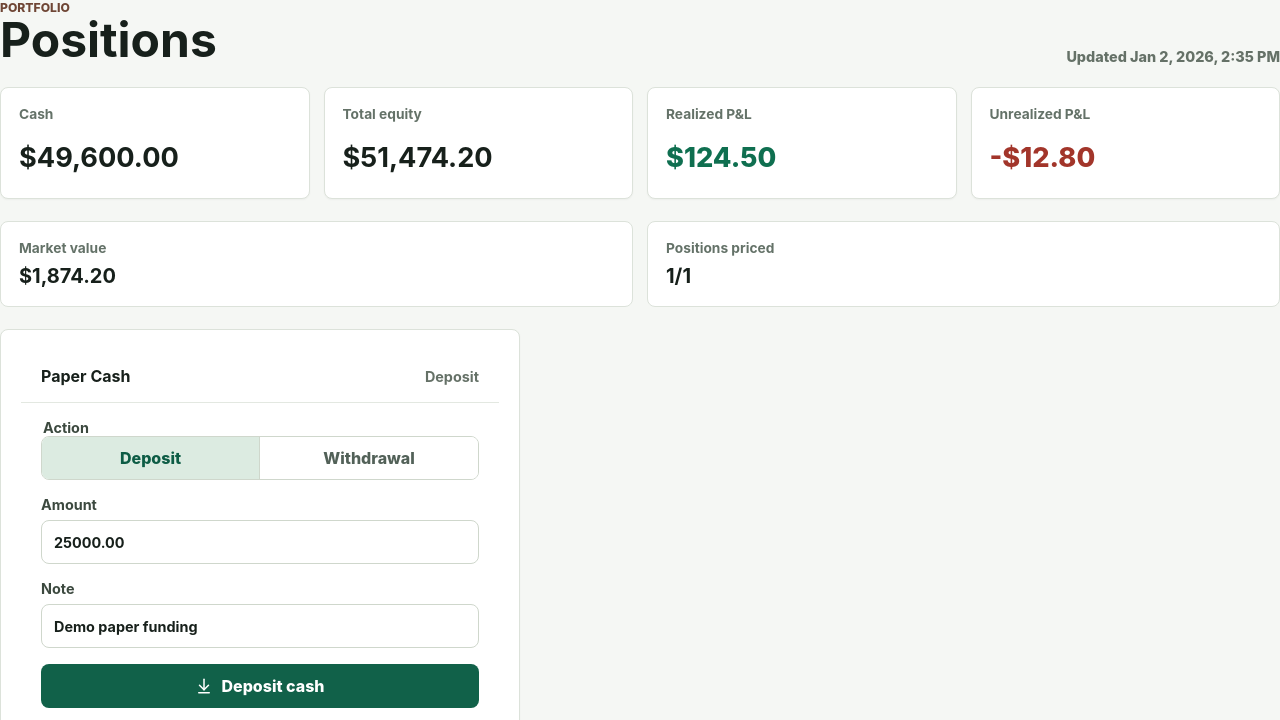
Test: PortfolioPage › submits a paper cash deposit
Replace the text in the number field labelled "Amount" with "1500.00" at point(260, 542), box [41,520,479,564]
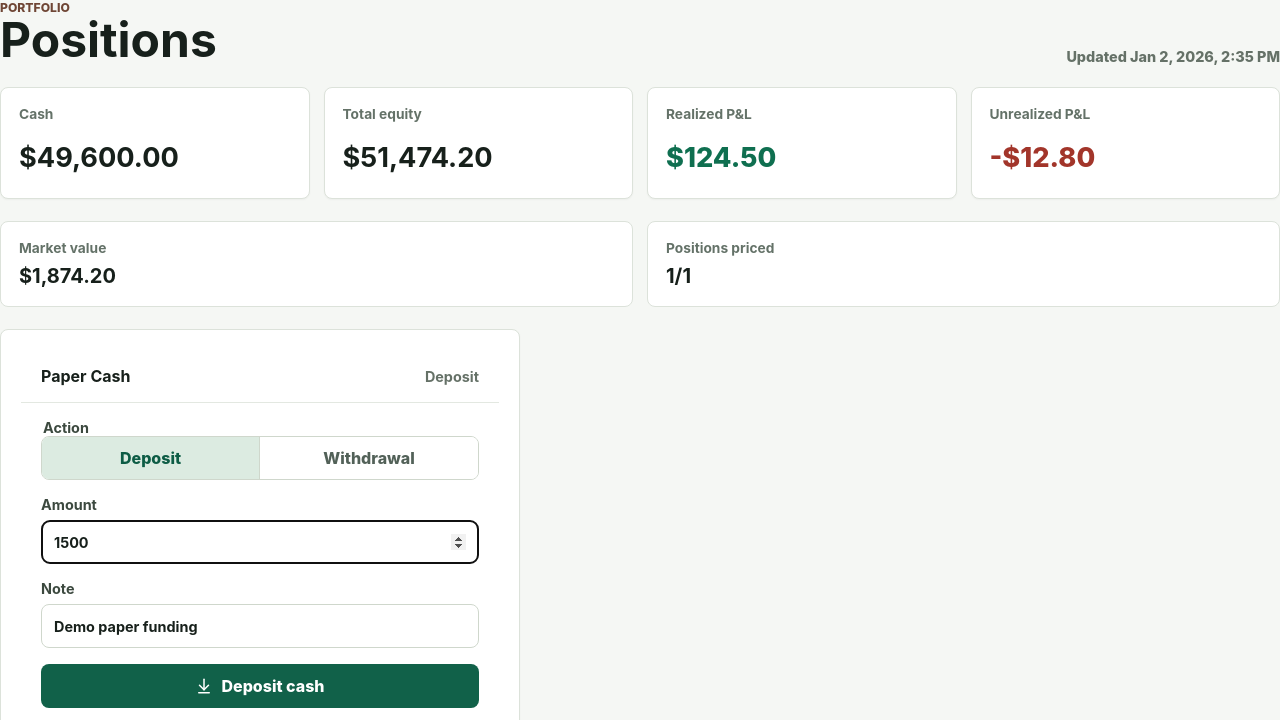
Click the button "Deposit cash" at point(260, 686), box [41,664,479,708]
(page scrolled)
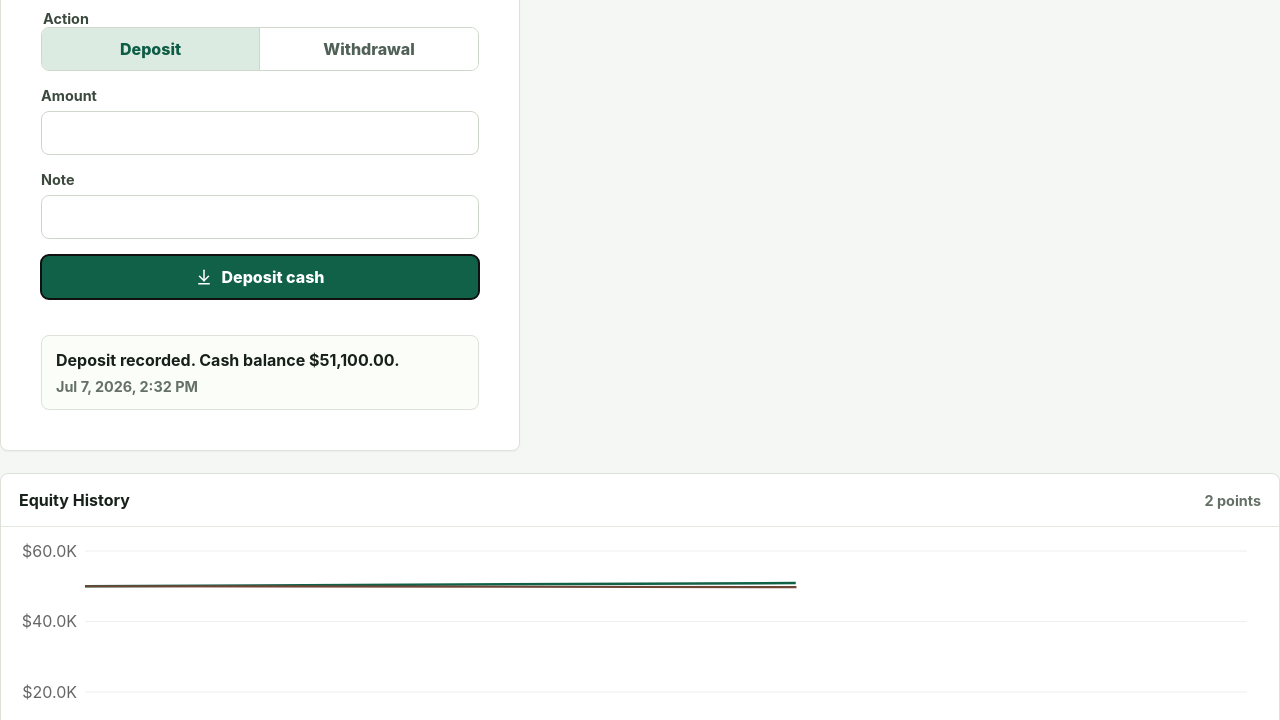
Expected: the text "Deposit recorded. Cash balance $51,100.00." is shown, [56,350,400,370]
